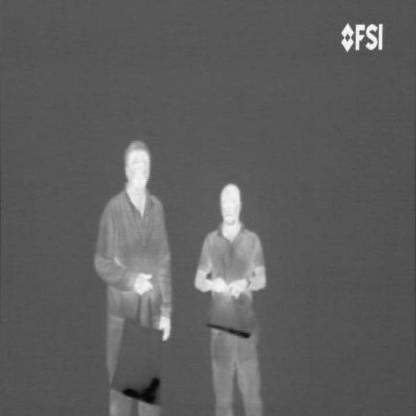weapon: (122, 374, 162, 406)
